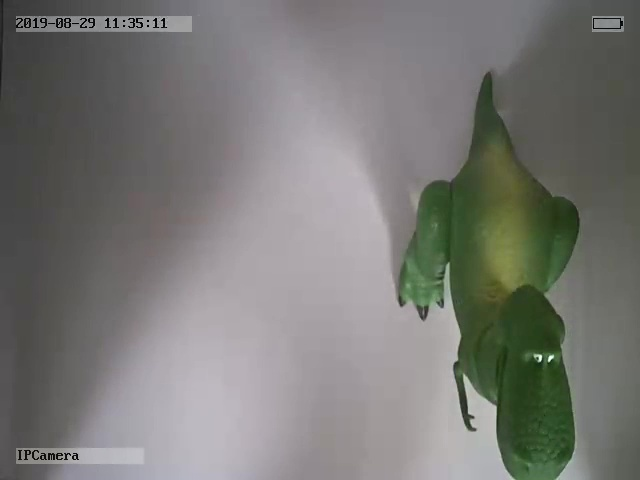rex: (393, 70, 582, 480)
